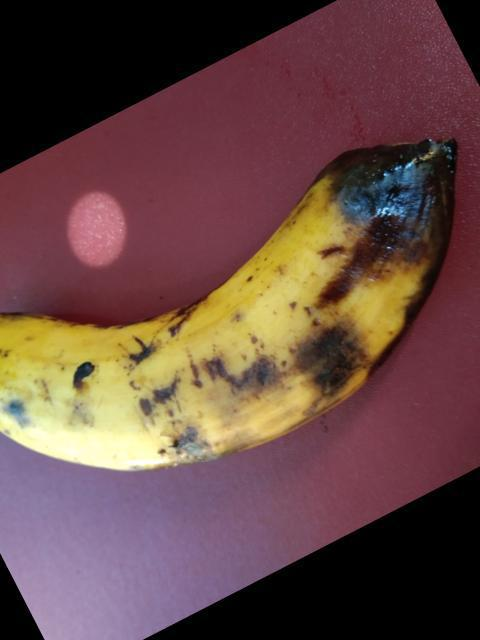overripe: (0, 237, 309, 533)
rotten: (212, 119, 479, 475)
